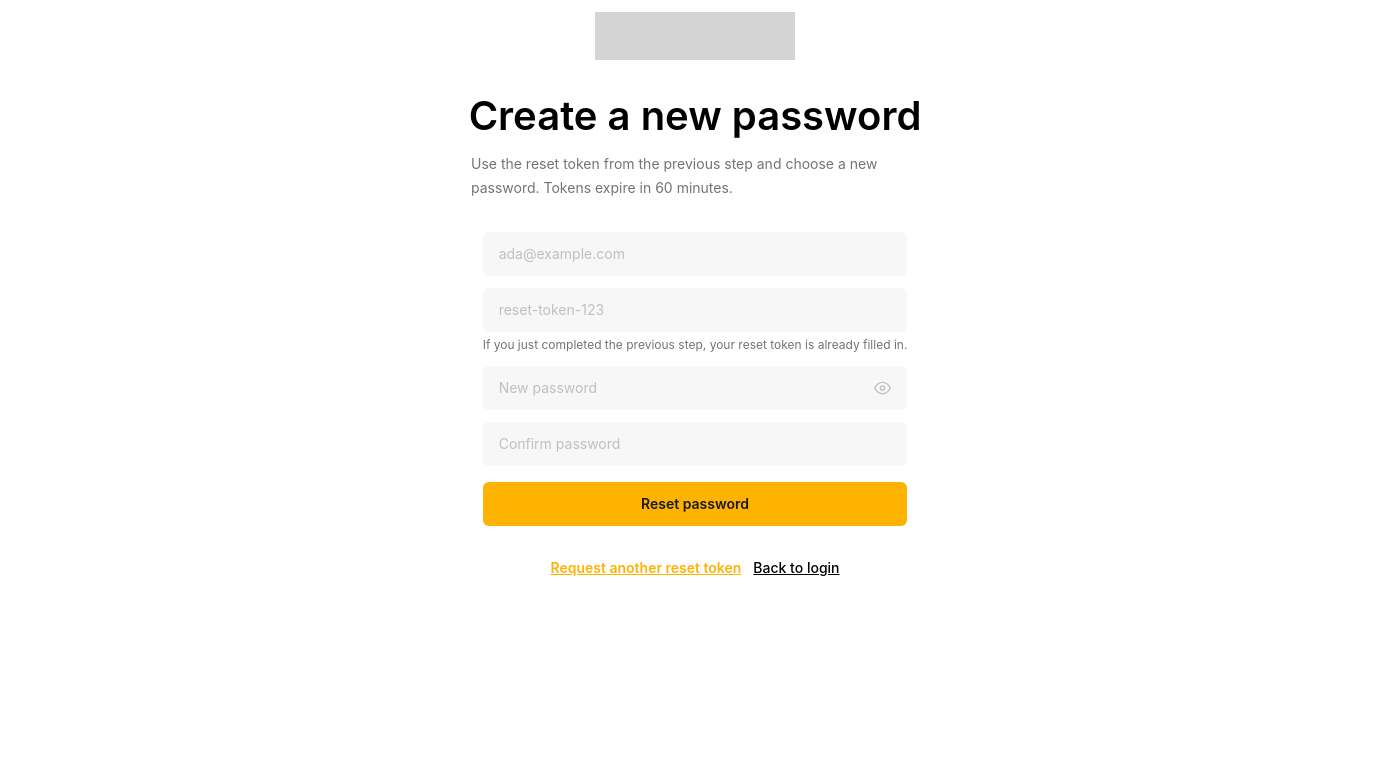
Test case: ResetPassword › submits the new password, clears stored reset state, and shows success
Type "Password1" into the password field with placeholder "New password". click: (695, 388)
box: [483,366,907,410]
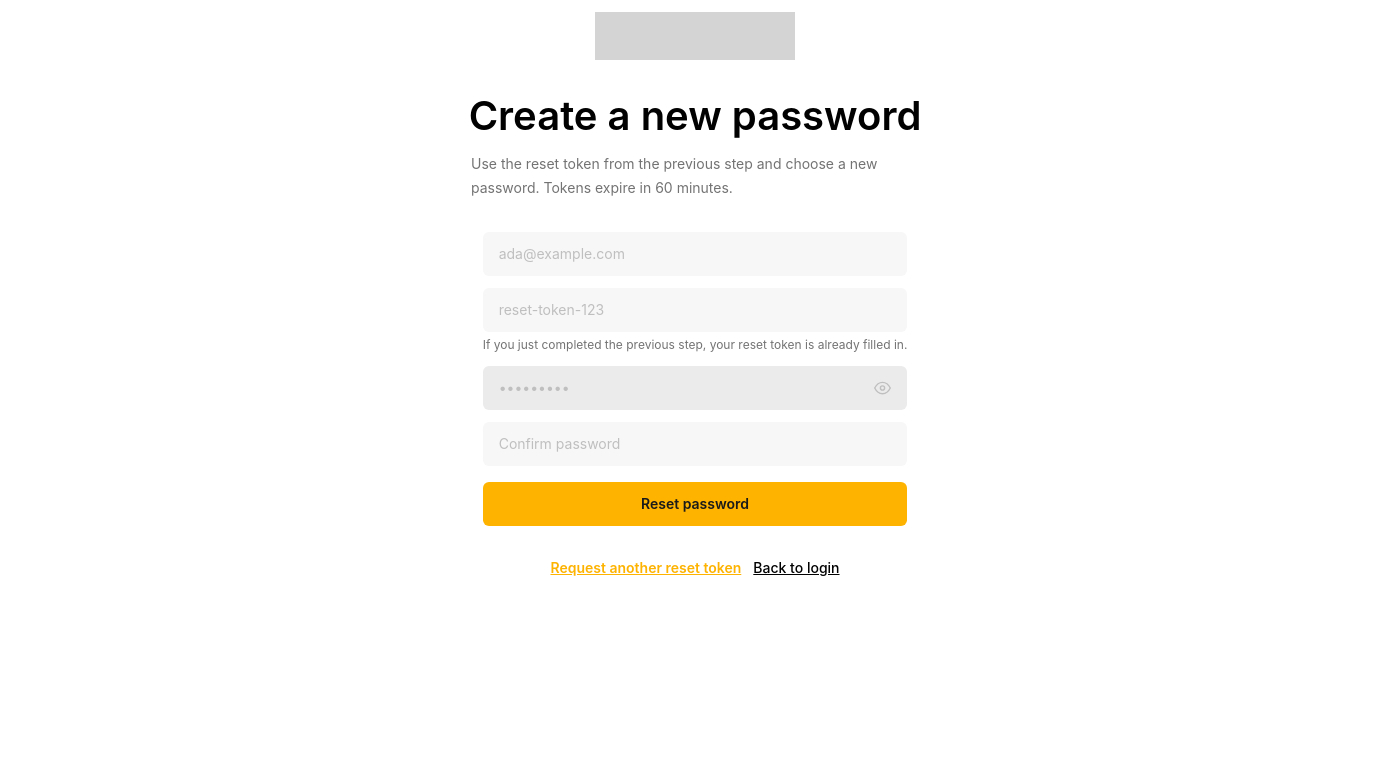
Type "Password1" into the password field with placeholder "Confirm password". click: (695, 444)
box: [483,422,907,466]
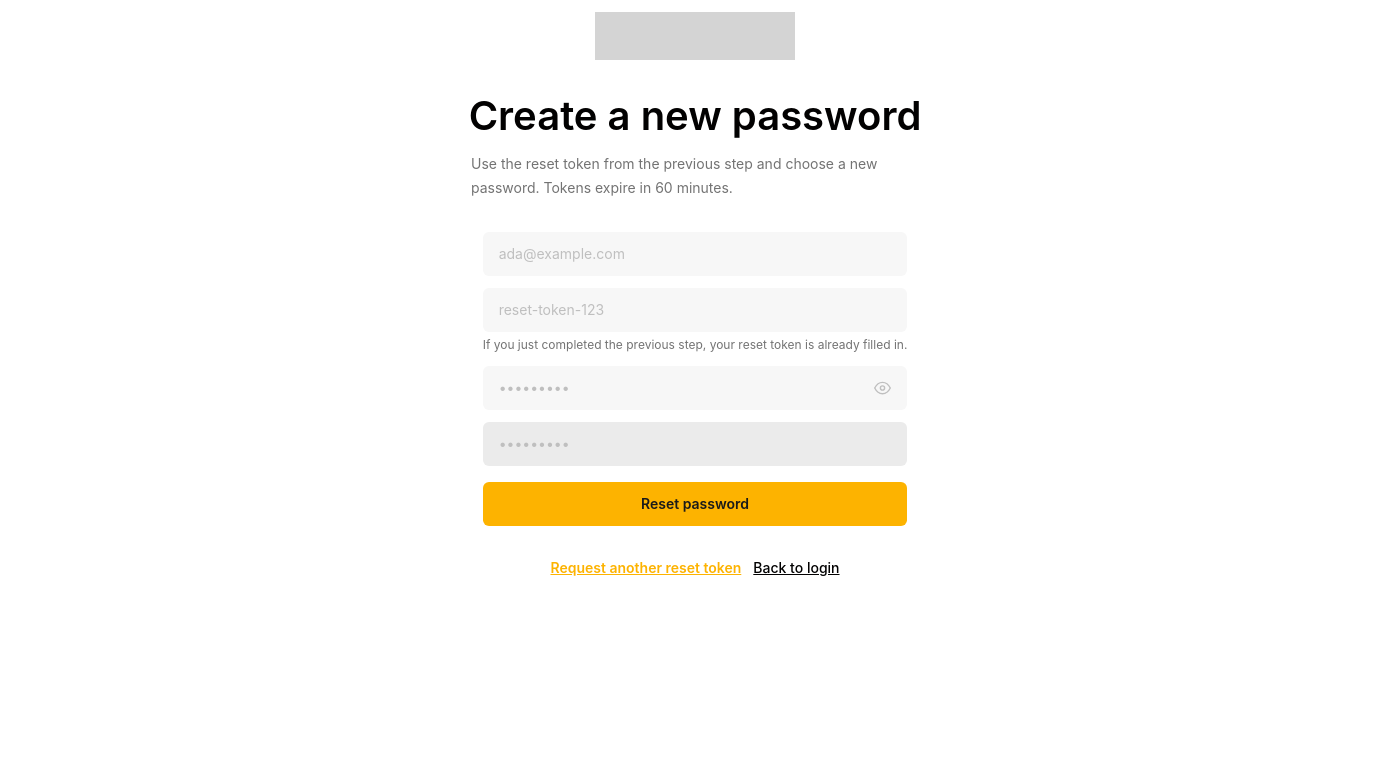
Click the button "Reset password". click: (695, 504)
box: [483,482,907,526]
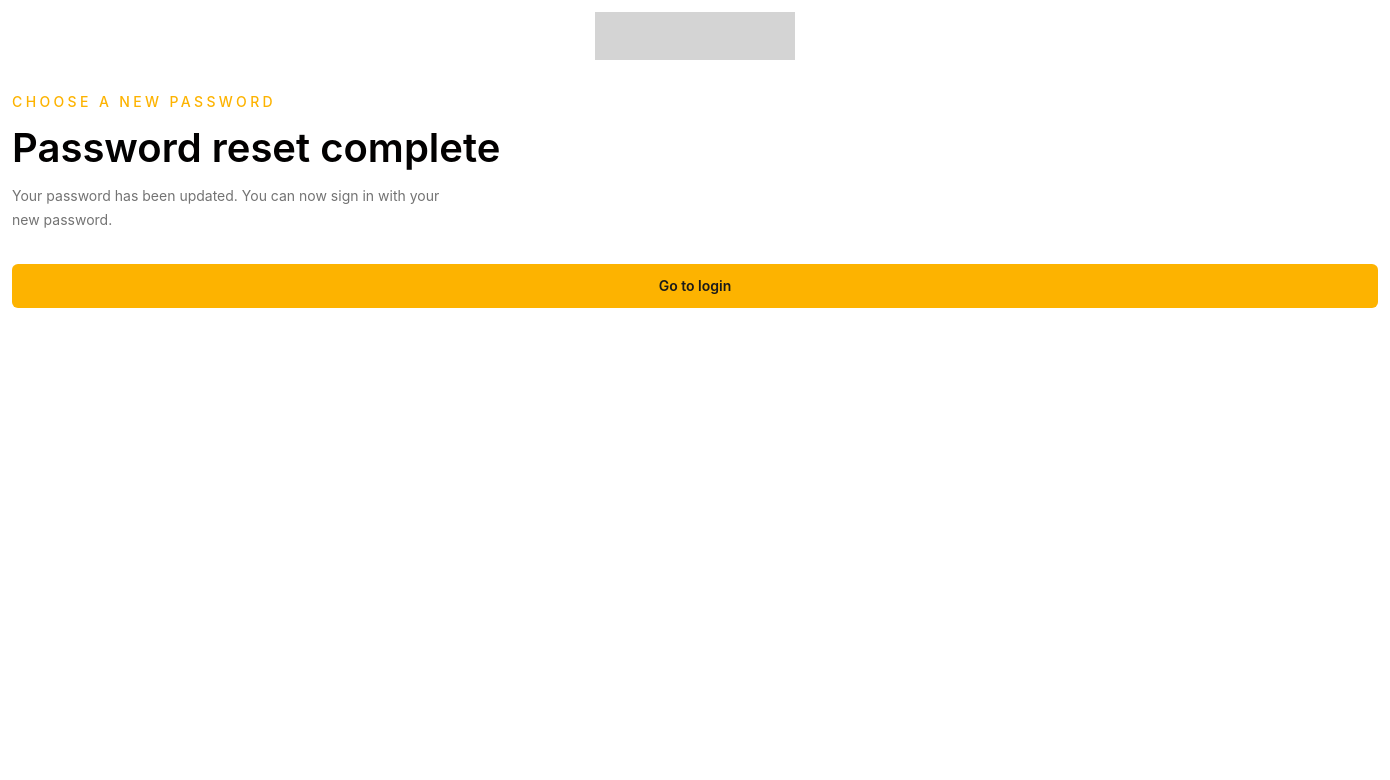
Result: the heading "Password reset complete" is shown at [12,123,500,172]
